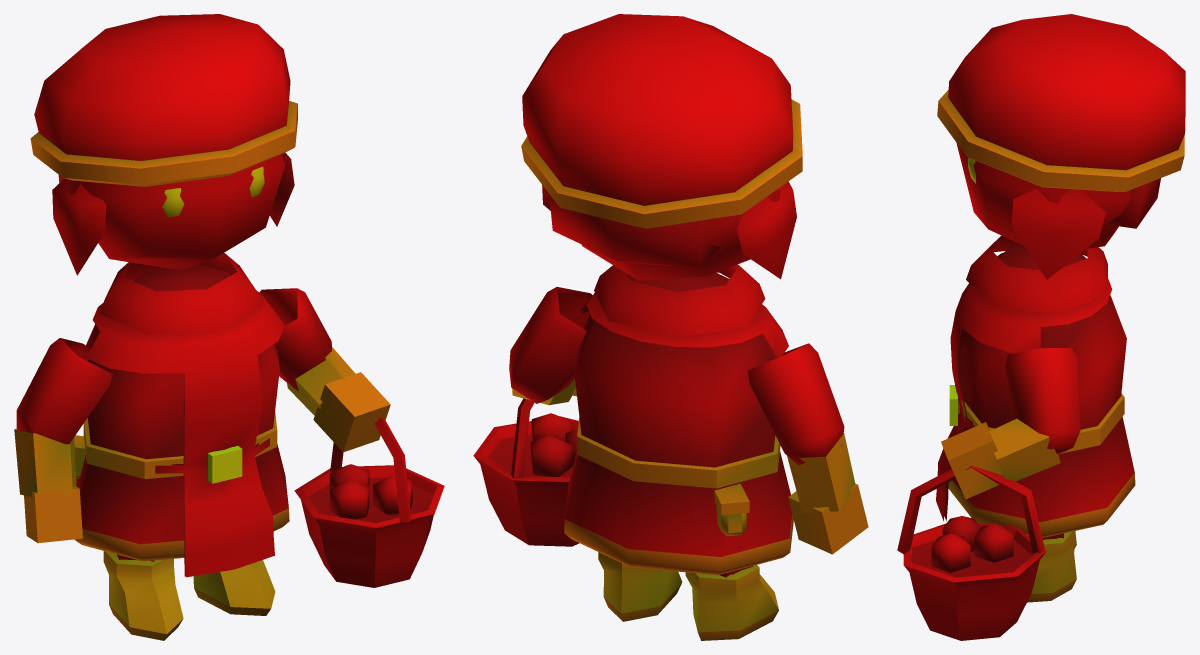
File: Villager_food_LOD1.glb
3 views of the same model, side by side, from view 1: azimuth 30°, elevation 25°; view 2: azimuth 150°, elevation 25°; view 3: azimuth 270°, elevation 25° (orthographic). The views are drawn at different scales.
Parts seen in each view (by area): view 1: Villager_food_LOD1; view 2: Villager_food_LOD1; view 3: Villager_food_LOD1.
Boxes of the visible parts, box(x1,y1,x2,y2) form: Villager_food_LOD1: box(14, 14, 444, 640); Villager_food_LOD1: box(473, 14, 868, 640); Villager_food_LOD1: box(897, 14, 1185, 640).
Size of the model in its own units: 0.6065 by 0.8425 by 0.4095.
